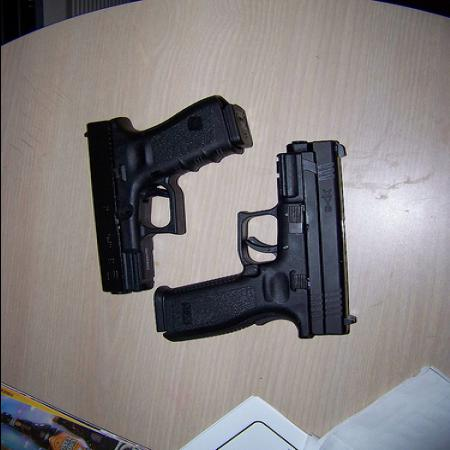Pistol: (152, 138, 356, 344), (87, 92, 255, 294)
